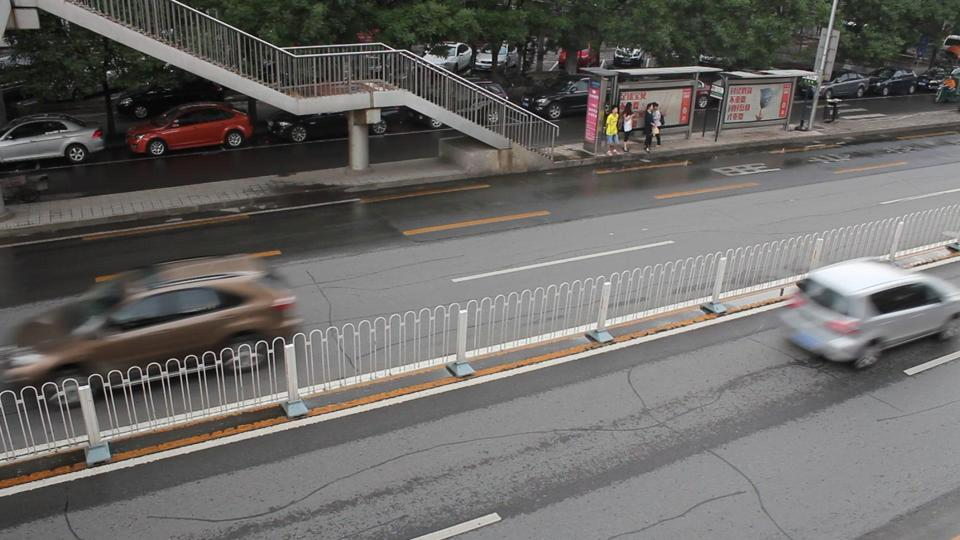car: (2, 260, 306, 395), (780, 257, 960, 369), (126, 103, 257, 157), (0, 113, 107, 165), (262, 109, 391, 143), (113, 83, 230, 120), (521, 78, 594, 120), (419, 42, 476, 74), (818, 72, 877, 99), (867, 67, 919, 96), (473, 44, 513, 72)
motorcycle: (934, 75, 960, 104)
person: (608, 104, 664, 153), (602, 106, 626, 156), (644, 103, 664, 150), (943, 35, 960, 62)
